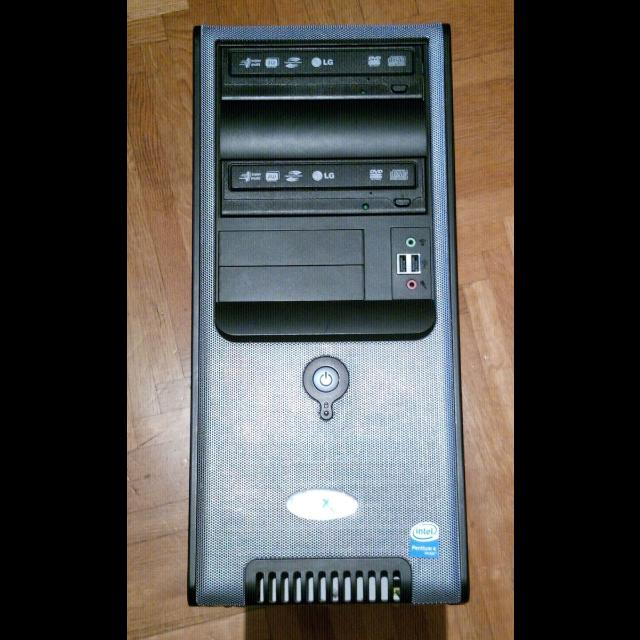Desktop-PC: (181, 15, 463, 635)
